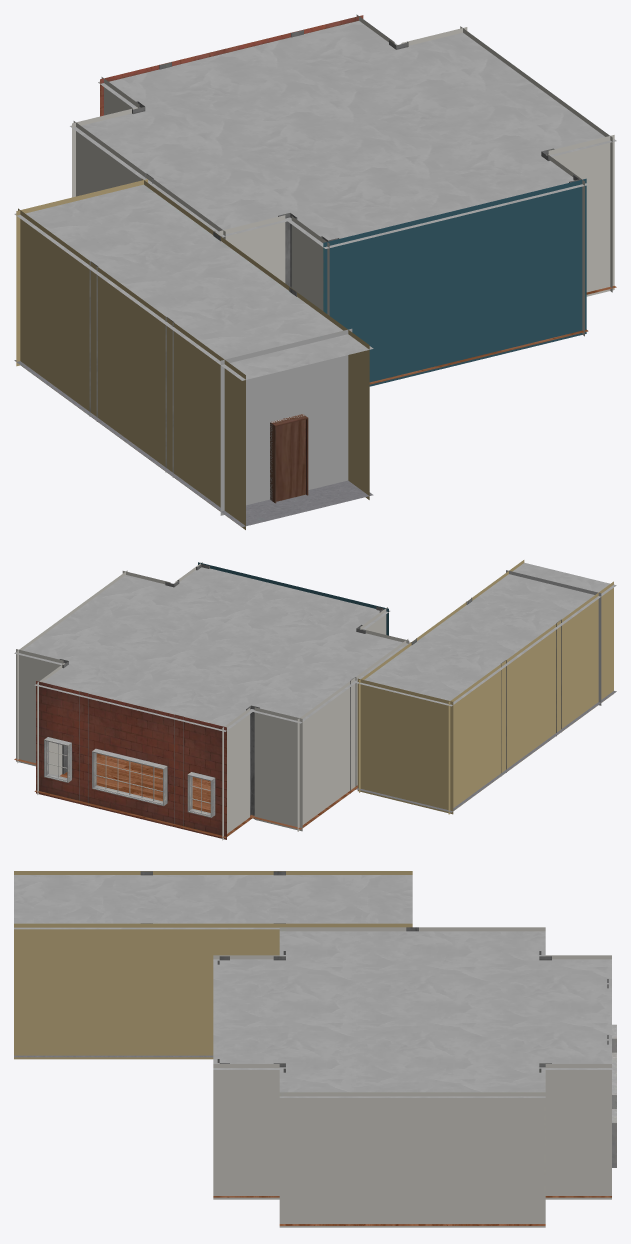
Rendered from conference_room1.glb.
3 renders of one model, top to bottom at view 1: azimuth 30°, elevation 25°; view 2: azimuth 150°, elevation 25°; view 3: azimuth 270°, elevation 25°, orthographic. The views are drawn at different scales.
Visible parts, largest first — view 1: ConfRoom_lambert1_0; view 2: ConfRoom_lambert1_0; view 3: ConfRoom_lambert1_0.
Part boxes in pixels (x1,y1,x2,y2): ConfRoom_lambert1_0: (14, 14, 616, 529); ConfRoom_lambert1_0: (14, 560, 616, 840); ConfRoom_lambert1_0: (14, 871, 616, 1227).
Size of the model in its own units: 16 by 4.5 by 18.15.
Materials: 1 (1 with a texture image).
